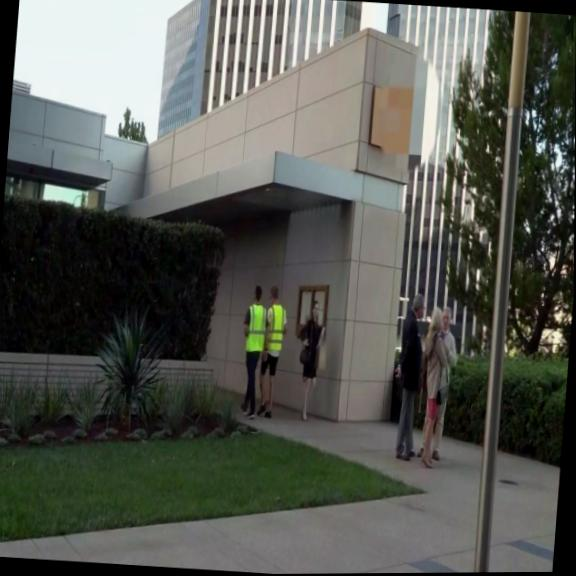safety_vest: (245, 301, 268, 353), (266, 303, 286, 351)
